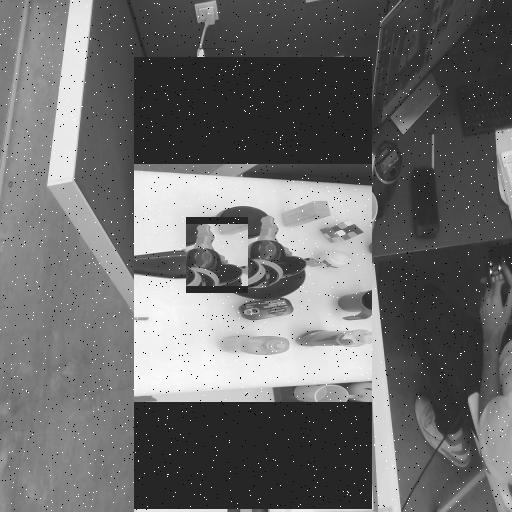bowl: (218, 232, 268, 318)
cleanser: (300, 161, 316, 241)
coffee_can: (175, 283, 214, 322)
jaco: (186, 225, 248, 287)
meat_can: (267, 244, 289, 298)
mug: (259, 143, 289, 199)
mustard_bottle: (305, 273, 324, 292)
rubik: (190, 185, 212, 207)
soup_can: (291, 78, 308, 133)
tennis_ball: (221, 188, 238, 218)
windex: (198, 49, 225, 167)
wooden_block: (171, 208, 195, 254)
workspace: (134, 171, 372, 399)
